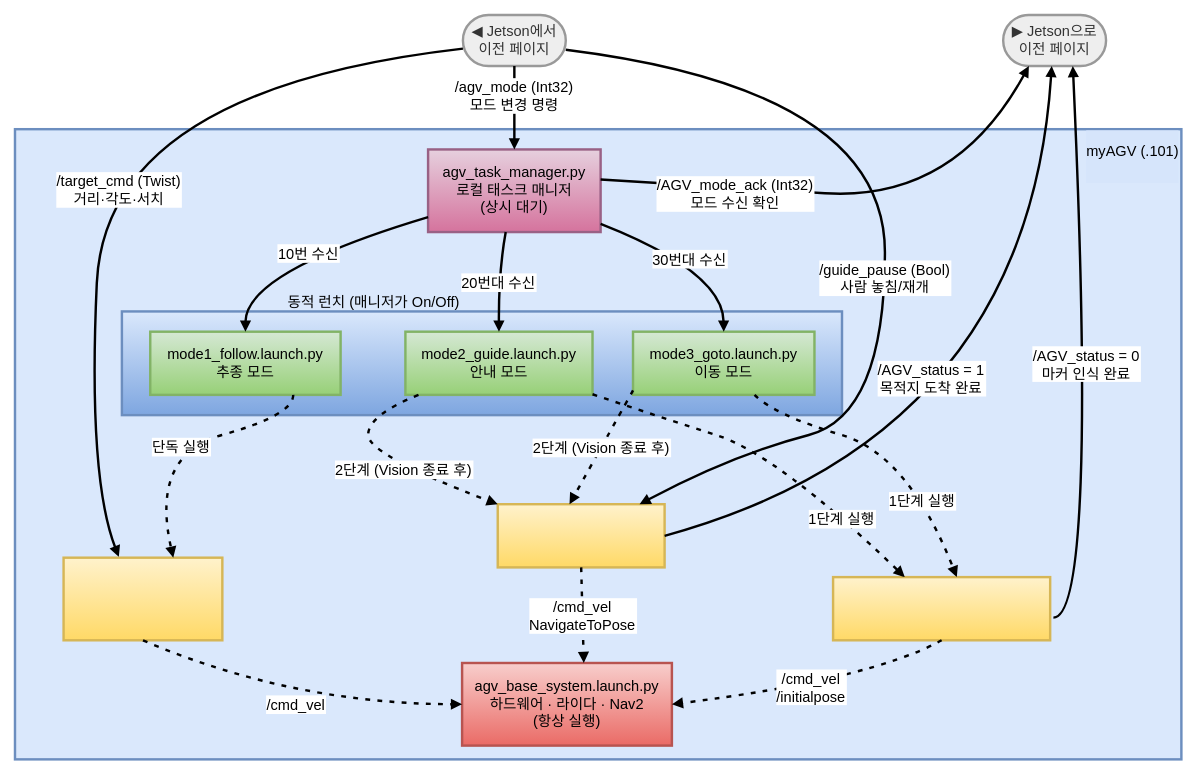
The diagram is 1196 pixels wide and 774 high, and some of its shapes have lost their labels. The shapes that lost their labels are listed below. From the top down, each one's centre as x and y in pixels, then its label:
(x=580, y=535): nav2_commander.py 자율주행 및 안내
(x=142, y=598): person_follower.py 사람 추종 연산 + 라이다 회피
(x=941, y=608): vision_localization.launch.py 카메라 + Aruco 위치 파악
